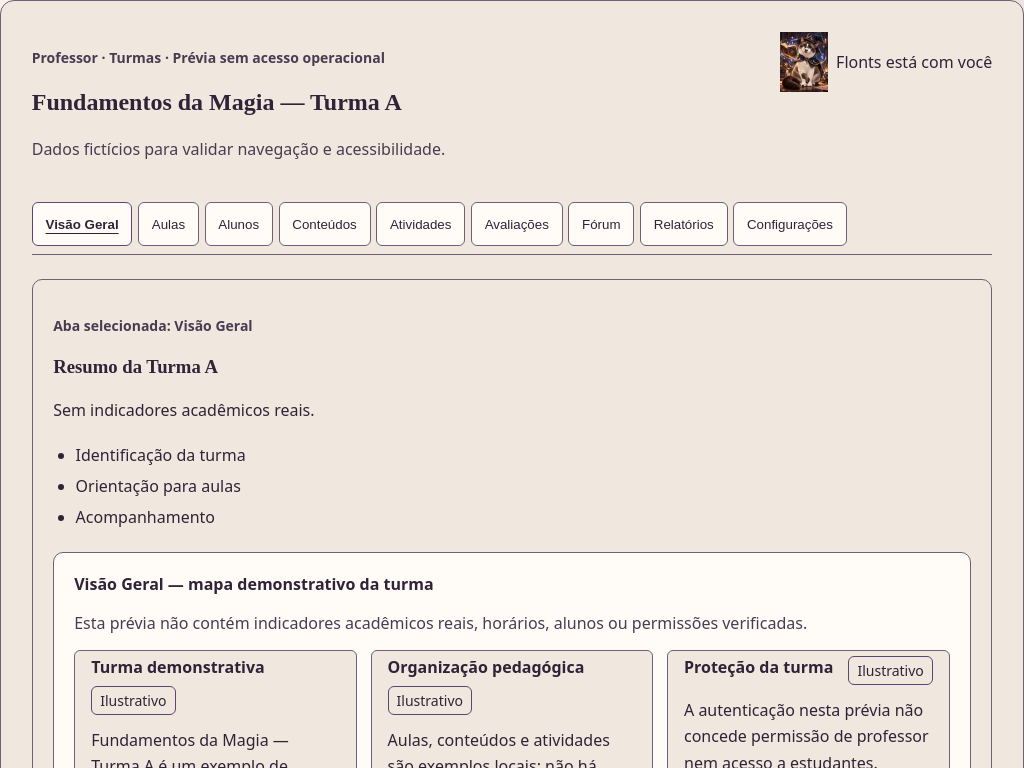
Professor Turma A tabs prototype › keeps the activity filters isolated in the Atividades tab
Click the tab "Atividades" at (421, 224), box [376,202,465,246]
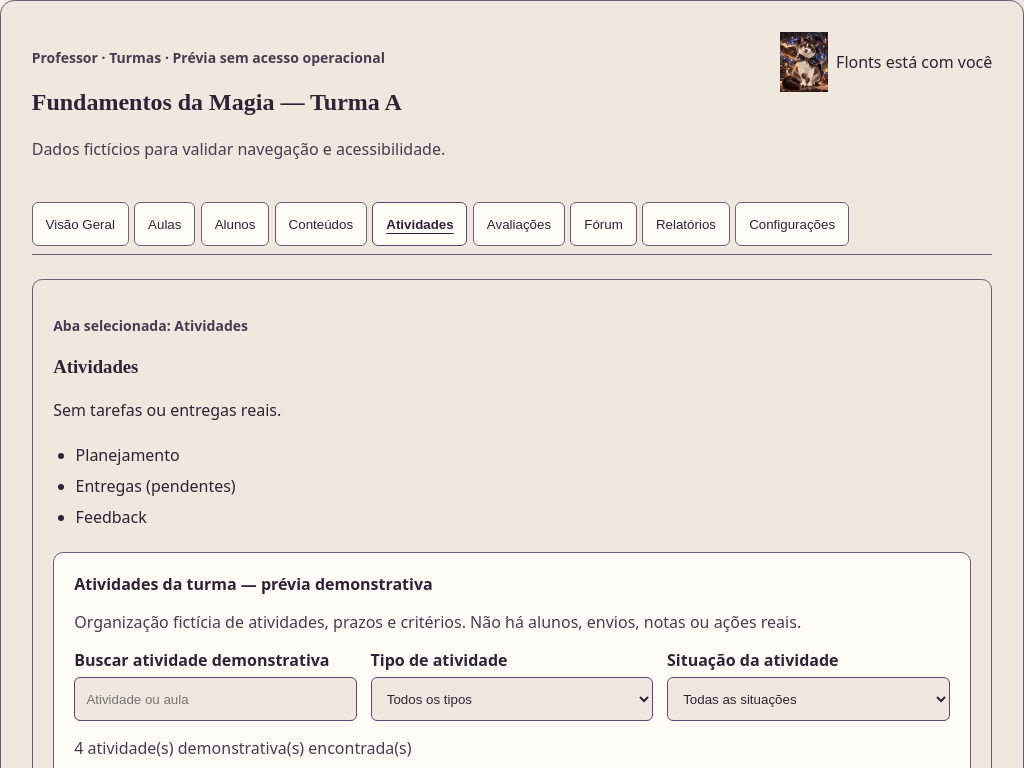
Check: the panel shows "Atividades da turma — prévia demonstrativa", box [74,573,433,595]
Check: the search field labelled "Buscar atividade demonstrativa" is shown, box [74,677,357,721]
Check: the text "4 atividade(s) demonstrativa(s) encontrada(s)" is shown, box [74,737,412,759]
Click the tab "Conteúdos" at (321, 224), box [275,202,367,246]
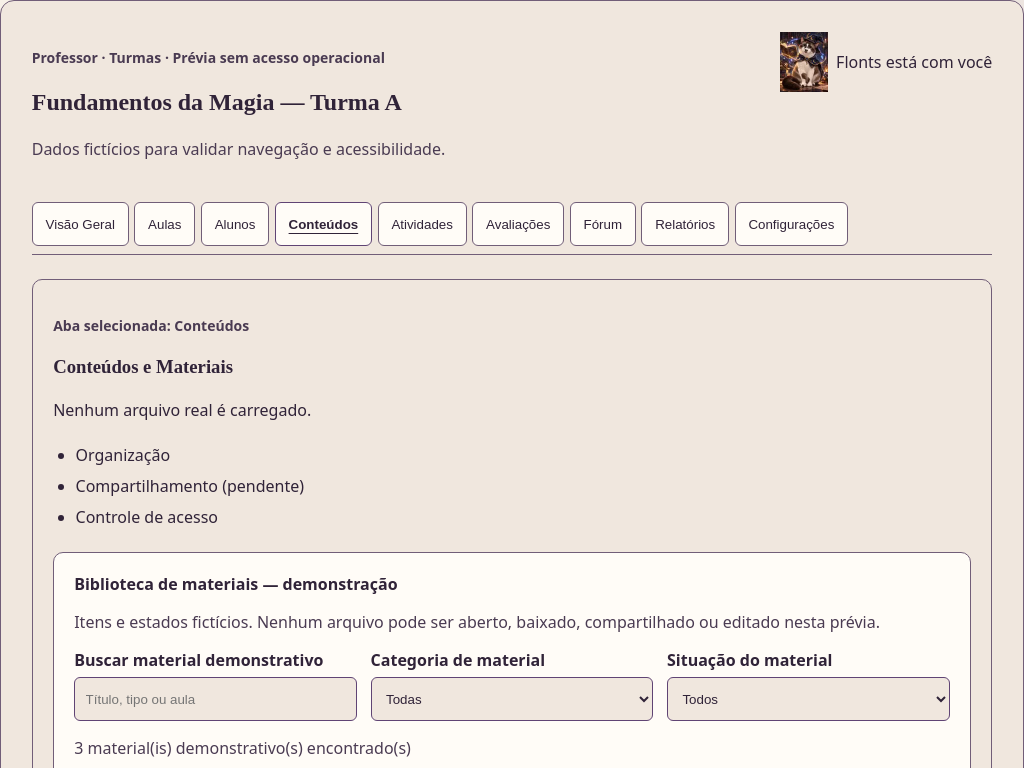
Check: the search field labelled "Buscar material demonstrativo" is shown, box [74,677,357,721]
Check: the text "Buscar atividade demonstrativa" is gone
